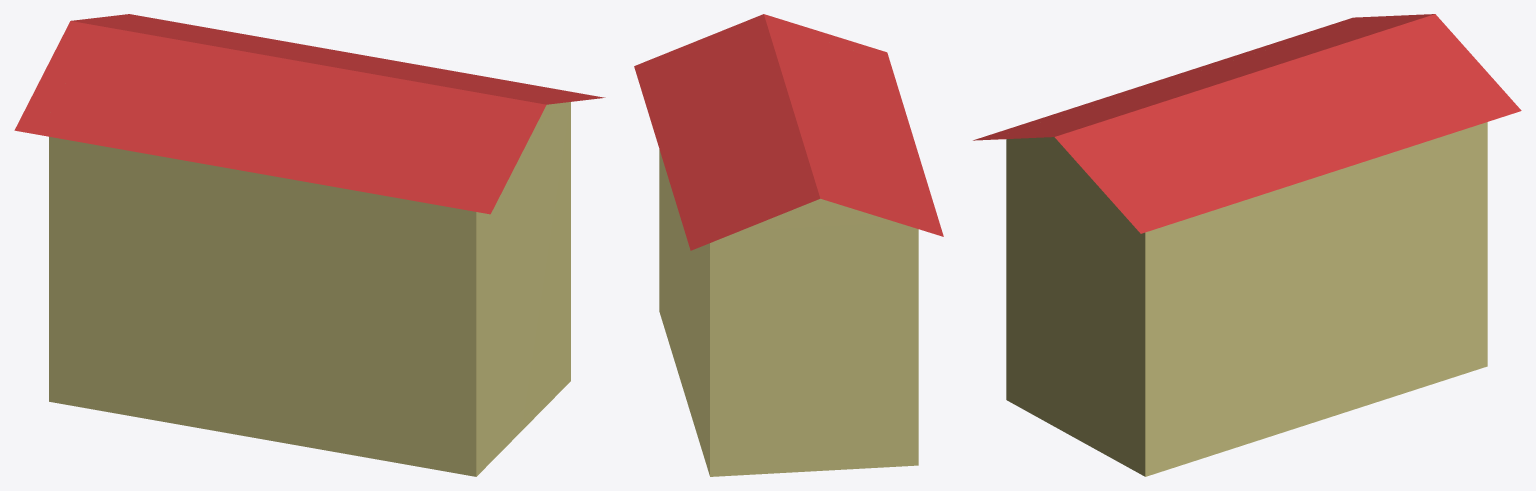
3 renders of one model, left to right at view 1: azimuth 30°, elevation 25°; view 2: azimuth 150°, elevation 25°; view 3: azimuth 270°, elevation 25°, orthographic. The views are drawn at different scales.
Bounding box in the file's own units: 15.68 × 16.83 × 10.36.
